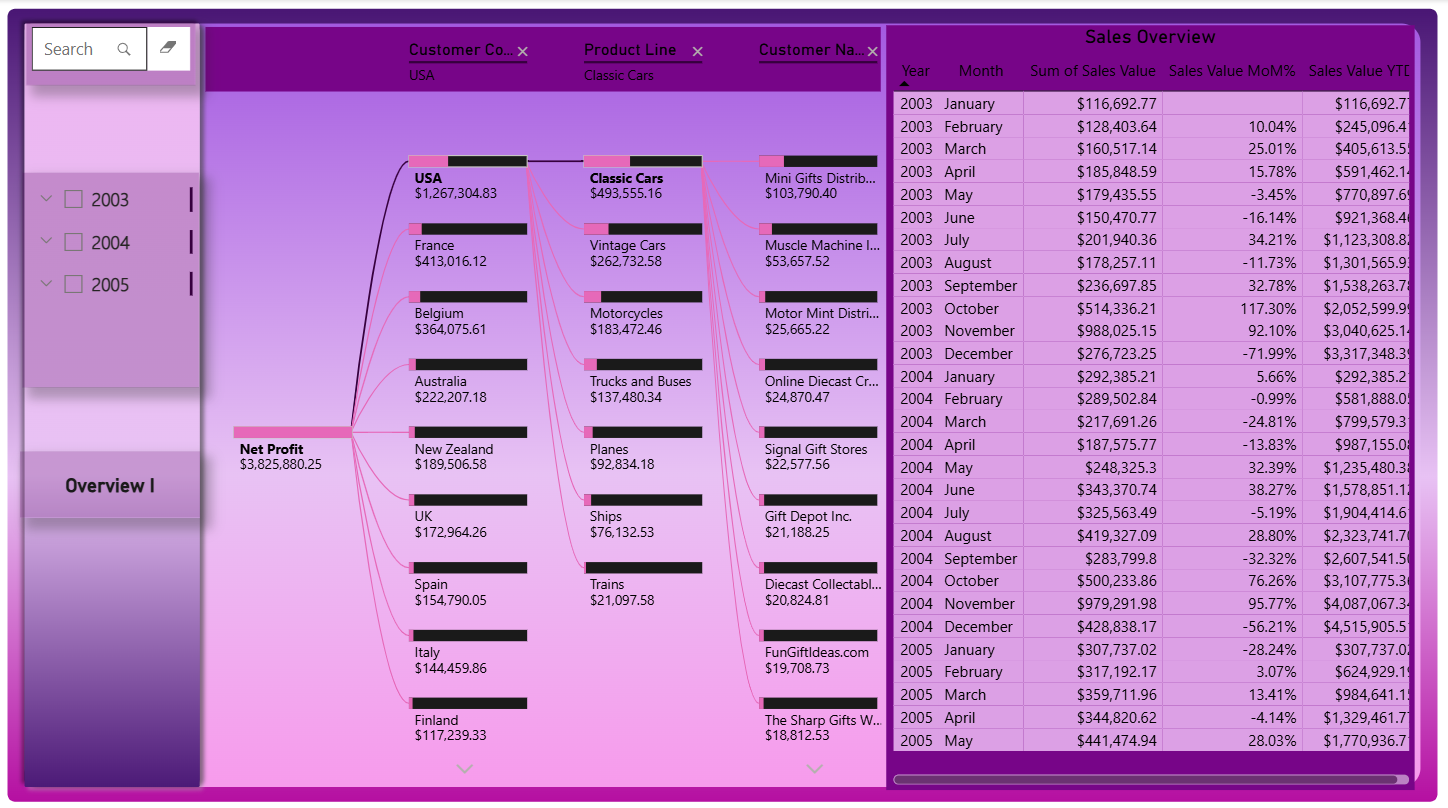

Layout of this report page (visuals, bound fields, positions):
{"tool":"powerbi","page":{"name":"Overview II ","canvas":[1280,720],"ordinal":1},"visuals":[{"type":"decompositionTreeVisual","fields":{"Analyze":["Sales_Data_for_Power_BI.Net Profit"],"ExplainBy":["Sales_Data_for_Power_BI.Customer_Country","Sales_Data_for_Power_BI.productLine","Sales_Data_for_Power_BI.customerName"]},"box":[180.4,19.4,604,700.9],"z":1000},{"type":"tableEx","title":"Sales Overview","fields":{"Values":["Sales_Data_for_Power_BI.orderDate.Variation.Date Hierarchy.Year","Sales_Data_for_Power_BI.orderDate.Variation.Date Hierarchy.Month","Sum(Sales_Data_for_Power_BI.Sales_Value)","Sales_Data_for_Power_BI.Sales_Value MoM%","Sales_Data_for_Power_BI.Sales_Value YTD"]},"box":[784.4,23,464.8,673],"z":3000},{"type":"actionButton","box":[21.8,398.3,158.6,58.1],"z":4000},{"type":"slicer","fields":{"Values":["Sales_Data_for_Power_BI.orderDate.Variation.Date Hierarchy.Year","Sales_Data_for_Power_BI.orderDate.Variation.Date Hierarchy.Quarter","Sales_Data_for_Power_BI.orderDate.Variation.Date Hierarchy.Month","Sales_Data_for_Power_BI.orderDate.Variation.Date Hierarchy.Day"]},"box":[24.2,152.5,154.9,188.8],"z":4001},{"type":"textFilter25A4896A83E0487089E2B90C9AE57C8A","fields":{"field":["Sales_Data_for_Power_BI.productName"]},"box":[27.8,19.4,148.9,55.7],"z":4003}]}

Visuals, with their boxes in screenshot pixels (x1, y1, x2, y2):
decompositionTreeVisual - Sales_Data_for_Power_BI.Net Profit x Sales_Data_for_Power_BI.Customer_Country: detection(195, 3, 888, 807)
"Sales Overview" tableEx: detection(888, 8, 1420, 779)
actionButton: detection(14, 438, 195, 504)
slicer - Sales_Data_for_Power_BI.orderDate.Variation.Date Hierarchy.Year x Sales_Data_for_Power_BI.orderDate.Variation.Date Hierarchy.Quarter: detection(16, 156, 194, 372)
textFilter25A4896A83E0487089E2B90C9AE57C8A - Sales_Data_for_Power_BI.productName: detection(21, 3, 191, 67)
